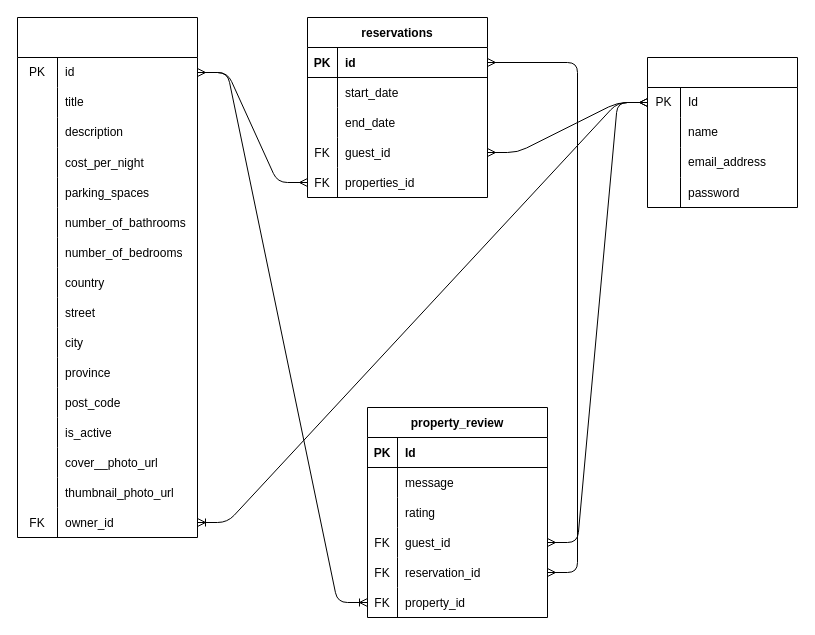
Some shapes in this 815 by 635 pixel diagram are drawn without their labels. Here are the shapes that lost their labels. From the top down, the box of each, then its label:
(646, 56, 798, 208): users
(16, 16, 198, 538): properties
